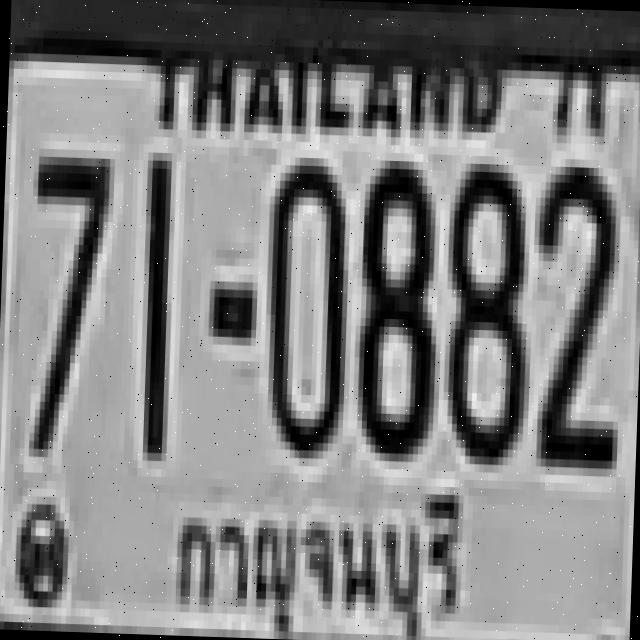0: (261, 156, 347, 451)
1: (138, 152, 172, 452)
2: (531, 158, 617, 460), (529, 158, 615, 453)
7: (24, 148, 105, 450)
8: (441, 154, 527, 456), (351, 152, 437, 454)
Kanchanaburi: (162, 475, 477, 640)
